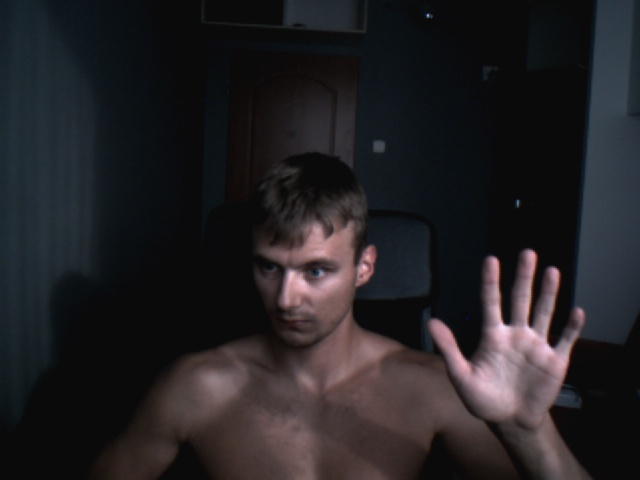open: (426, 248, 585, 427)
